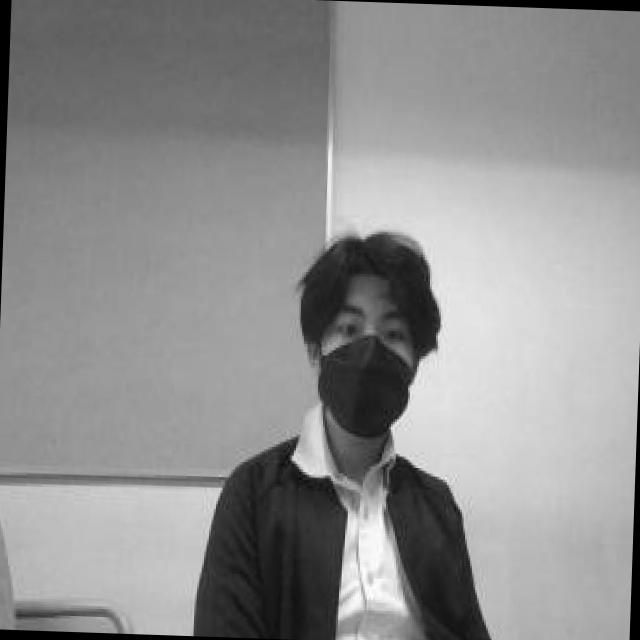Focused: (322, 268, 423, 432)
